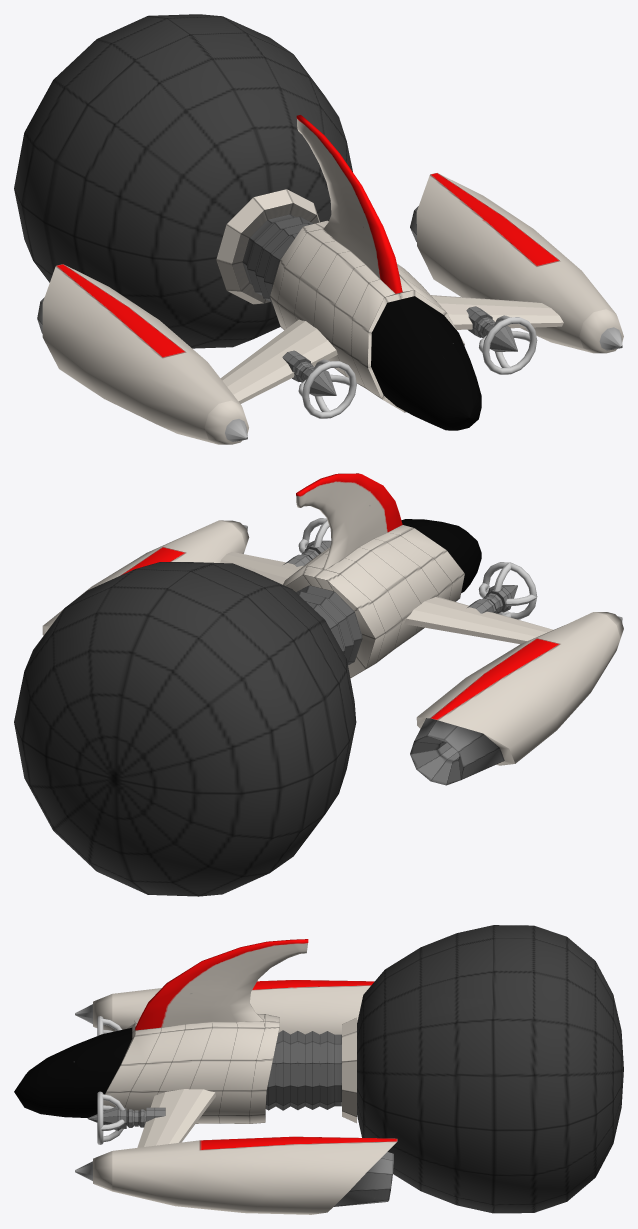
Rendered from gatherer_ship_red.fbx.
3 views of the same model, one above another, from view 1: azimuth 30°, elevation 25°; view 2: azimuth 150°, elevation 25°; view 3: azimuth 270°, elevation 25° (orthographic). The views are drawn at different scales.
Parts seen in each view (by area): view 1: gatherer; view 2: gatherer; view 3: gatherer.
Part boxes in pixels (x1,y1,x2,y2): gatherer: [14, 14, 623, 444]; gatherer: [14, 473, 623, 896]; gatherer: [14, 925, 623, 1214].
Size of the model in its own units: 5.07 by 3.13 by 6.61.
1 material, 1 textured.
